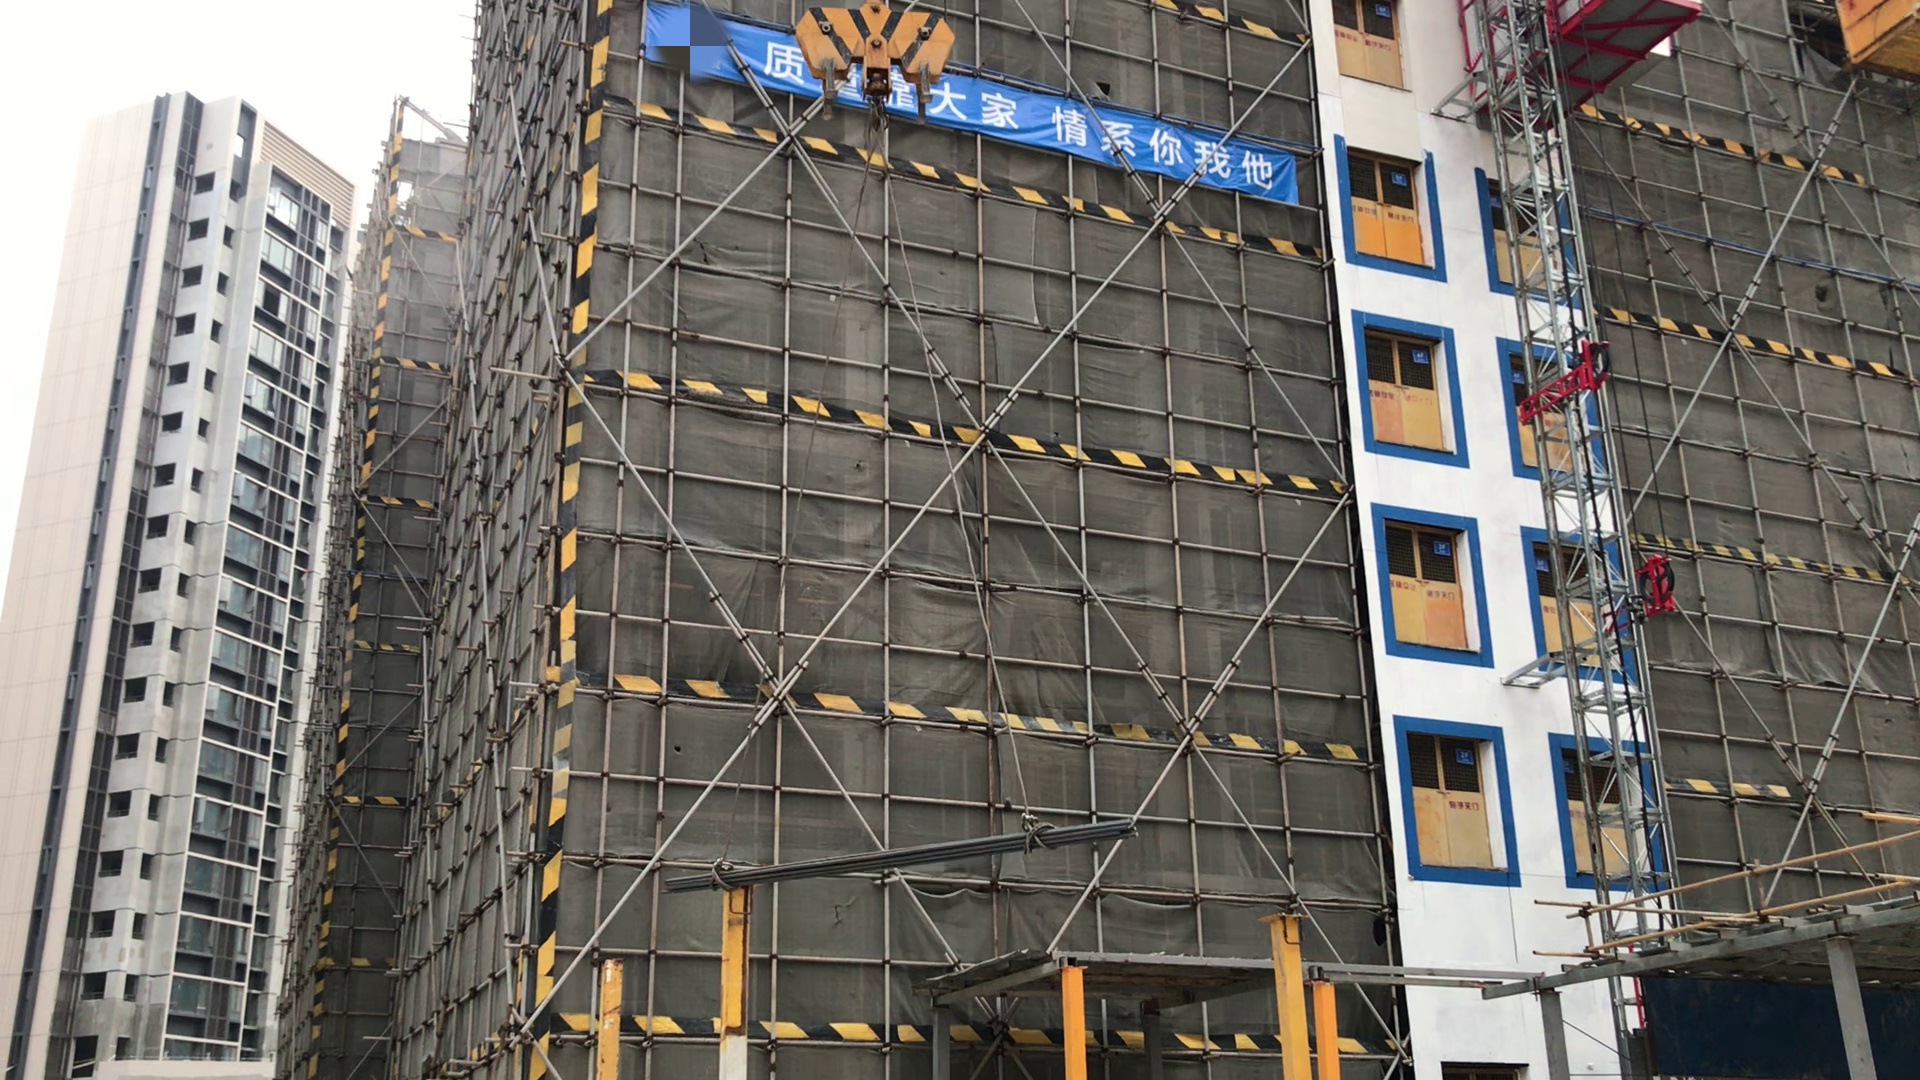hook: (746, 5, 1023, 175)
rebar: (638, 808, 1150, 909)
slogan: (644, 5, 1321, 241)
